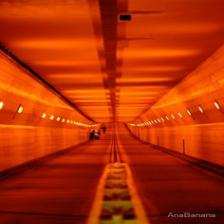orange: (0, 51, 98, 171), (118, 124, 224, 224), (1, 133, 111, 224), (132, 46, 224, 127), (129, 122, 224, 166)
